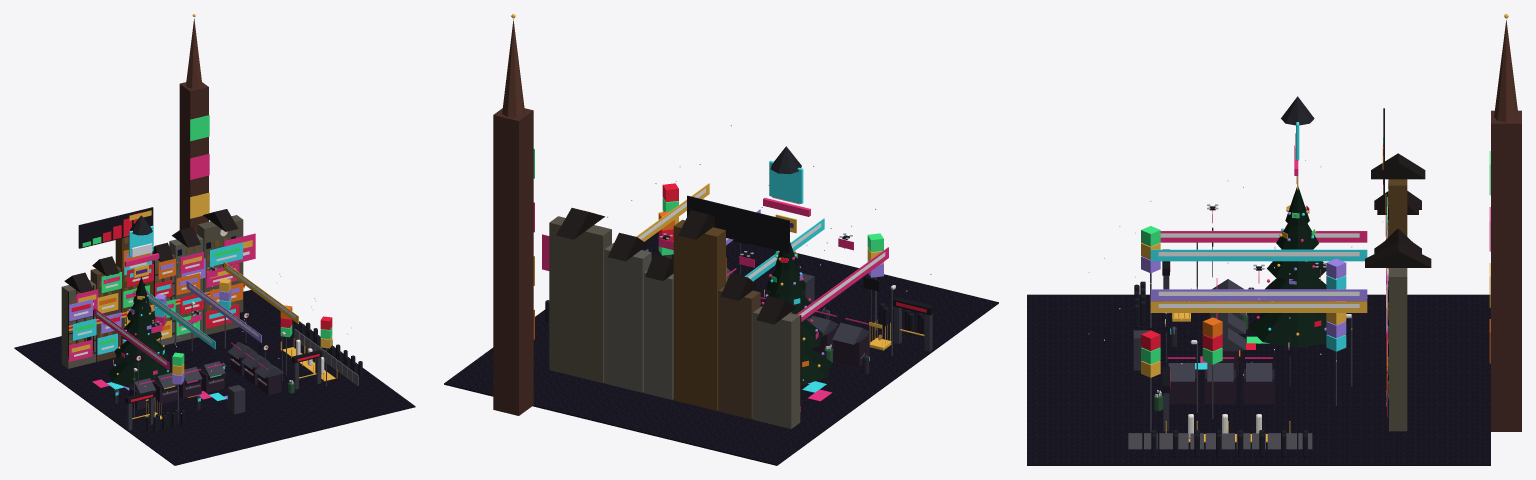
The model's file is decor_kleber.glb.
3 renders of one model, left to right at view 1: azimuth 30°, elevation 25°; view 2: azimuth 150°, elevation 25°; view 3: azimuth 270°, elevation 25°, orthographic. The views are drawn at different scales.
Parts seen in each view (by area): view 1: p_box, p_box.140, p_box.111, p_box.001, p_box.253, p_box.089, p_cone.001, p_box.026, p_cone.002, p_box.039, p_cone, p_cone.003 (+13 smaller); view 2: p_box, p_box.140, p_box.039, p_box.111, p_box.089, p_box.001, p_box.026, p_box.067, p_box.253, p_cone, p_rbox.036, p_prism.005 (+9 smaller); view 3: p_box, p_box.140, p_box.111, p_cone.001, p_box.359, p_box.361, p_box.363, p_box.357, p_cone, p_prism.005, p_box.039, p_box.360 (+13 smaller).
Part boxes in pixels (x1,y1,x2,y2): p_box: [14, 290, 415, 465]; p_box.140: [179, 82, 208, 234]; p_box.111: [198, 215, 243, 334]; p_box.001: [61, 280, 95, 368]; p_box.253: [78, 207, 153, 248]; p_box.089: [169, 234, 203, 342]; p_cone.001: [108, 361, 172, 387]; p_box.026: [90, 265, 120, 361]; p_cone.002: [115, 340, 168, 364]; p_box.039: [115, 237, 153, 344]; p_cone: [186, 18, 202, 88]; p_cone.003: [122, 321, 161, 342]; p_box: [444, 231, 998, 465]; p_box.140: [493, 108, 533, 415]; p_box.039: [673, 219, 725, 410]; p_box.111: [549, 216, 611, 382]; p_box.089: [604, 243, 651, 392]; p_box.001: [753, 306, 800, 428]; p_box.026: [718, 286, 760, 419]; p_box.067: [644, 270, 673, 399]; p_box.253: [687, 195, 789, 253]; p_cone: [502, 19, 524, 117]; p_rbox.036: [769, 160, 803, 203]; p_prism.005: [556, 208, 604, 239]; p_box: [1027, 294, 1490, 465]; p_box.140: [1491, 110, 1521, 431]; p_box.111: [1389, 268, 1407, 431]; p_cone.001: [1248, 313, 1346, 348]; p_box.359: [1150, 249, 1367, 261]; p_box.361: [1150, 289, 1367, 300]; p_box.363: [1150, 301, 1367, 312]; p_box.357: [1160, 231, 1367, 242]; p_cone: [1494, 20, 1518, 122]; p_prism.005: [1365, 242, 1431, 267]; p_box.039: [1389, 179, 1407, 236]; p_box.360: [1158, 252, 1359, 256].
Size of the model in its own units: 26 by 29.45 by 32.
41 materials, 1 textured.
